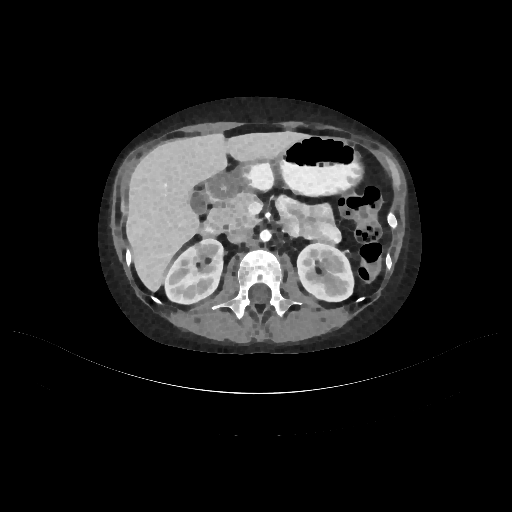Lesion: (189, 241, 202, 251)
